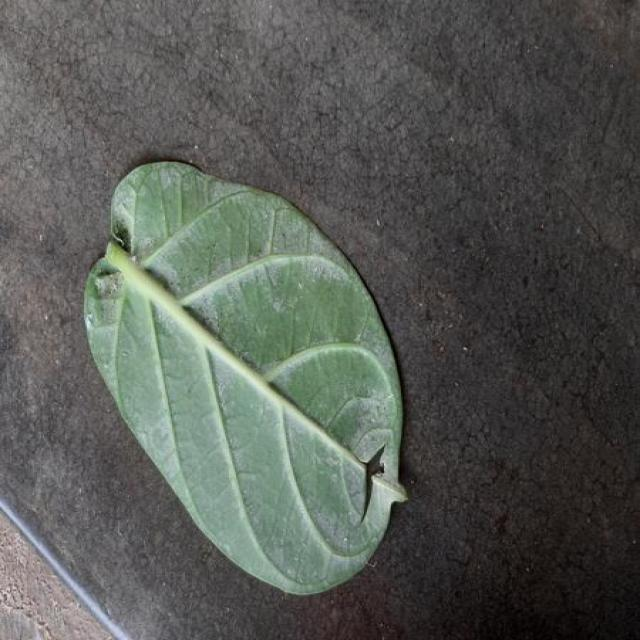ekka: (85, 164, 407, 594)
